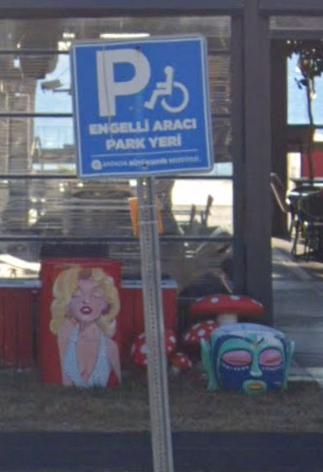disabledpark: (87, 45, 189, 118)
